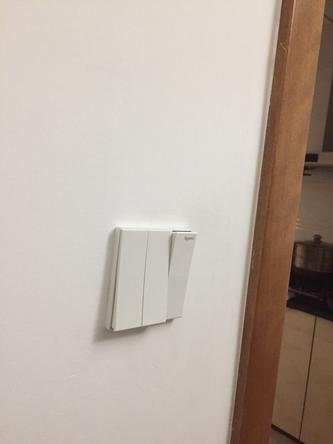switch: (147, 233, 170, 328), (172, 234, 196, 325), (119, 230, 137, 330)
